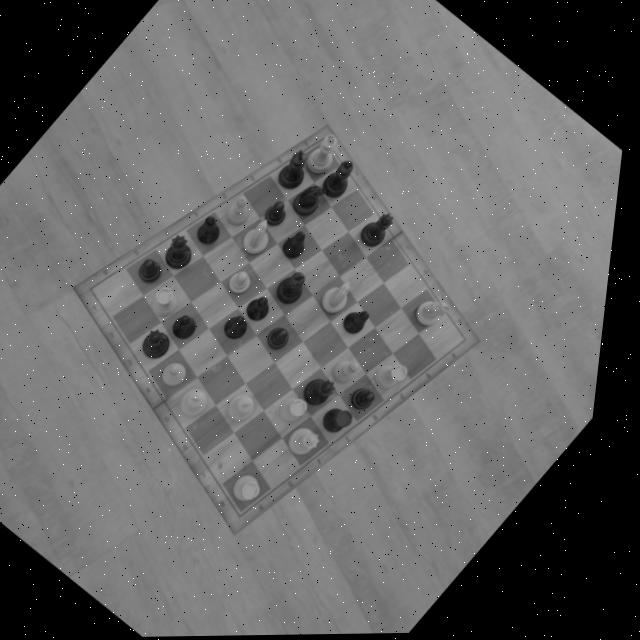chessboard: (100, 141, 472, 514)
